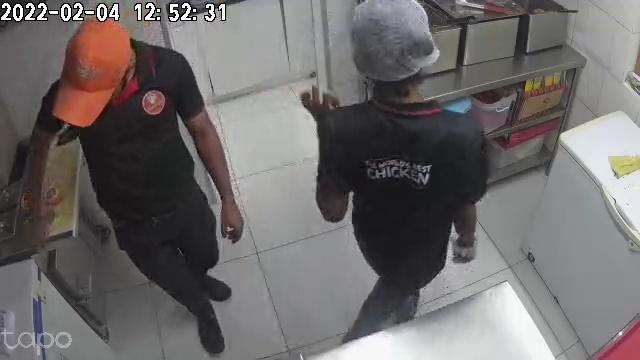no_gloves: (218, 194, 241, 244)
